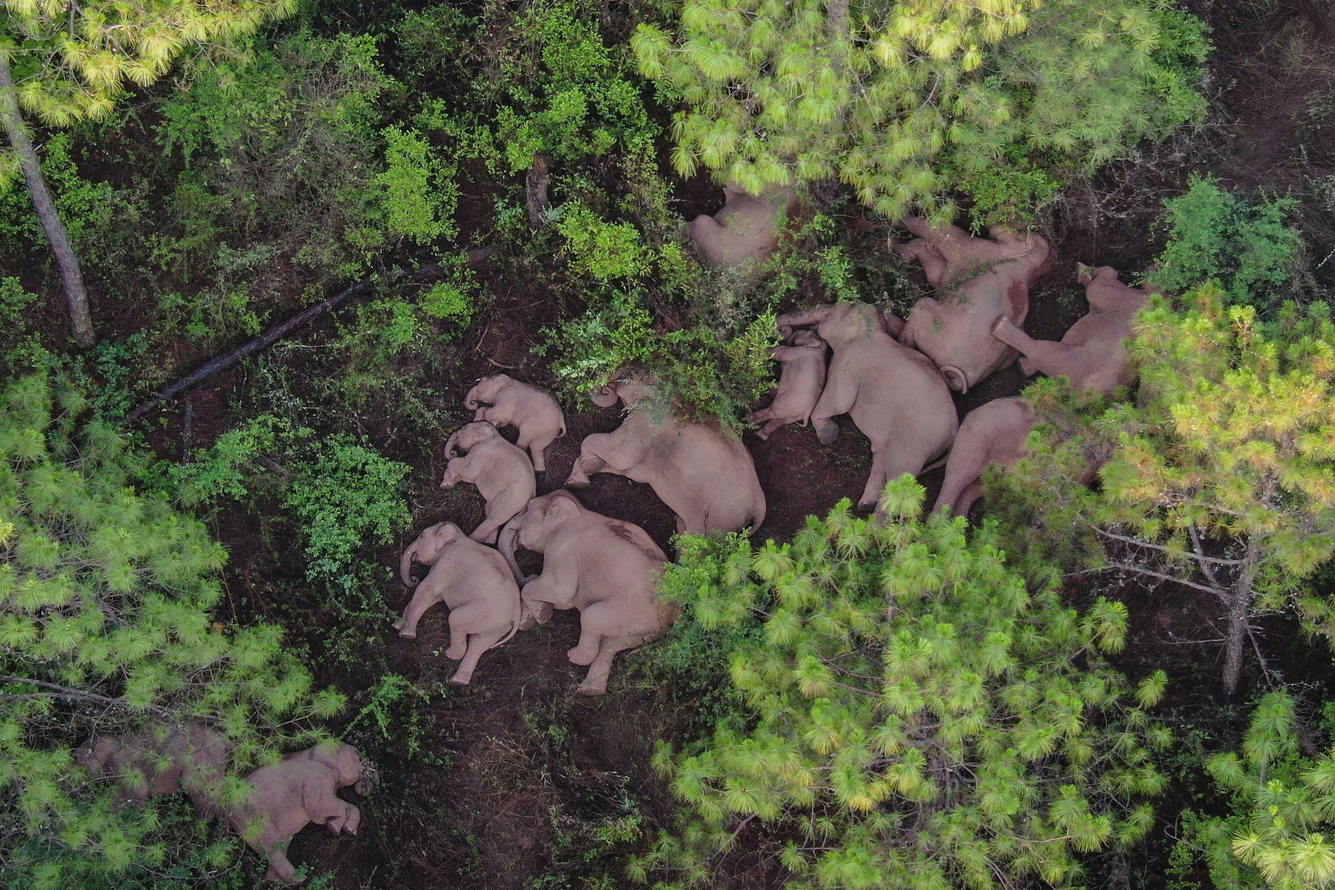Adult Elephant: (568, 358, 796, 559), (751, 331, 825, 449)
Baby Elephant: (497, 487, 688, 694), (802, 299, 960, 518), (877, 193, 1048, 391), (669, 123, 840, 316), (366, 512, 534, 692), (225, 738, 383, 861), (92, 692, 243, 815), (437, 418, 541, 545), (461, 376, 576, 466)
